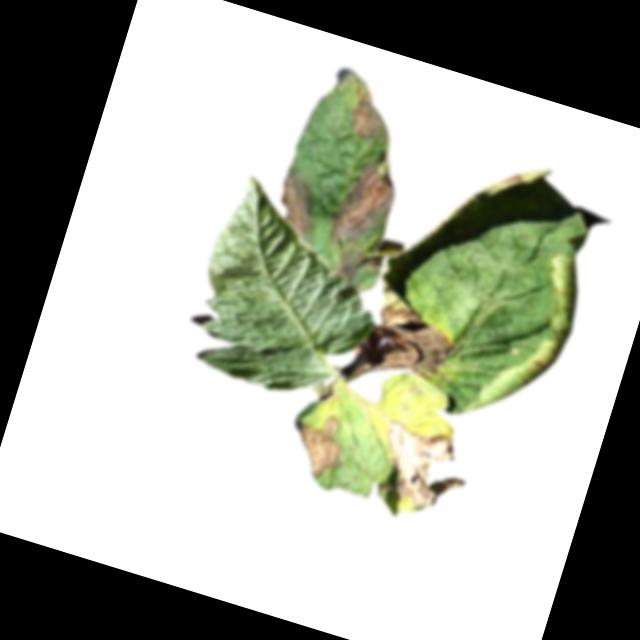Late_blight: (366, 412, 479, 516), (350, 292, 467, 391), (325, 146, 408, 258), (279, 404, 356, 484), (270, 166, 326, 240), (346, 78, 396, 143), (334, 243, 386, 290)
